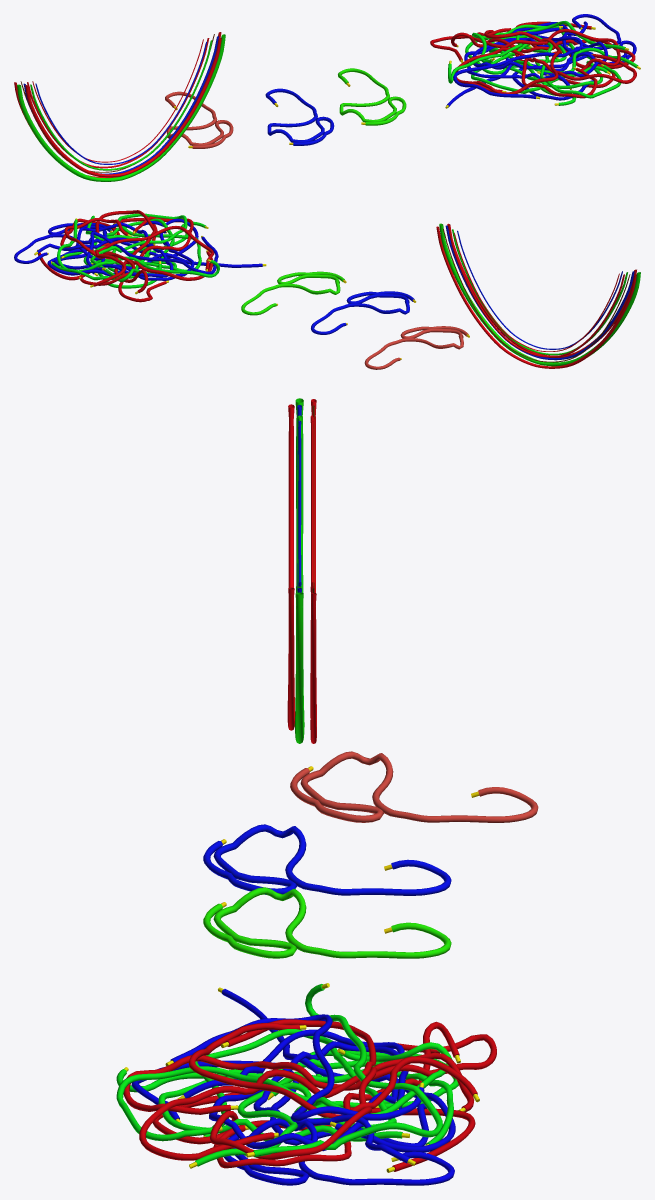
The model's file is kablo.fbx.
3 renders of one model, top to bottom at view 1: azimuth 30°, elevation 25°; view 2: azimuth 150°, elevation 25°; view 3: azimuth 270°, elevation 25°, orthographic. The views are drawn at different scales.
Parts seen in each view (by area): view 1: KABLO_TOPLU, KABLO_SARKAN, KABLO_MAVİ, KABLO_YEŞİL, KABLO_KIRMIZI; view 2: KABLO_TOPLU, KABLO_SARKAN, KABLO_YEŞİL, KABLO_KIRMIZI, KABLO_MAVİ; view 3: KABLO_TOPLU, KABLO_SARKAN, KABLO_YEŞİL, KABLO_KIRMIZI, KABLO_MAVİ.
Boxes of the visible parts, <box> form: KABLO_TOPLU: <box>430,14,640,108</box>; KABLO_SARKAN: <box>14,32,225,181</box>; KABLO_MAVİ: <box>265,88,334,145</box>; KABLO_YEŞİL: <box>338,68,406,125</box>; KABLO_KIRMIZI: <box>165,91,233,148</box>; KABLO_TOPLU: <box>14,210,266,302</box>; KABLO_SARKAN: <box>436,223,640,368</box>; KABLO_YEŞİL: <box>241,271,346,315</box>; KABLO_KIRMIZI: <box>364,326,469,369</box>; KABLO_MAVİ: <box>311,291,416,334</box>; KABLO_TOPLU: <box>116,983,496,1185</box>; KABLO_SARKAN: <box>287,398,316,743</box>; KABLO_YEŞİL: <box>203,887,451,958</box>; KABLO_KIRMIZI: <box>290,751,538,822</box>; KABLO_MAVİ: <box>203,824,451,895</box>.
Size of the model in its own units: 830 by 154 by 255.
